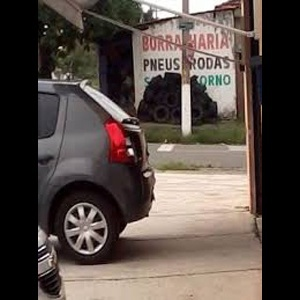tire: (54, 192, 120, 267), (152, 105, 170, 123), (187, 105, 203, 124), (170, 107, 186, 124), (163, 92, 180, 107)
